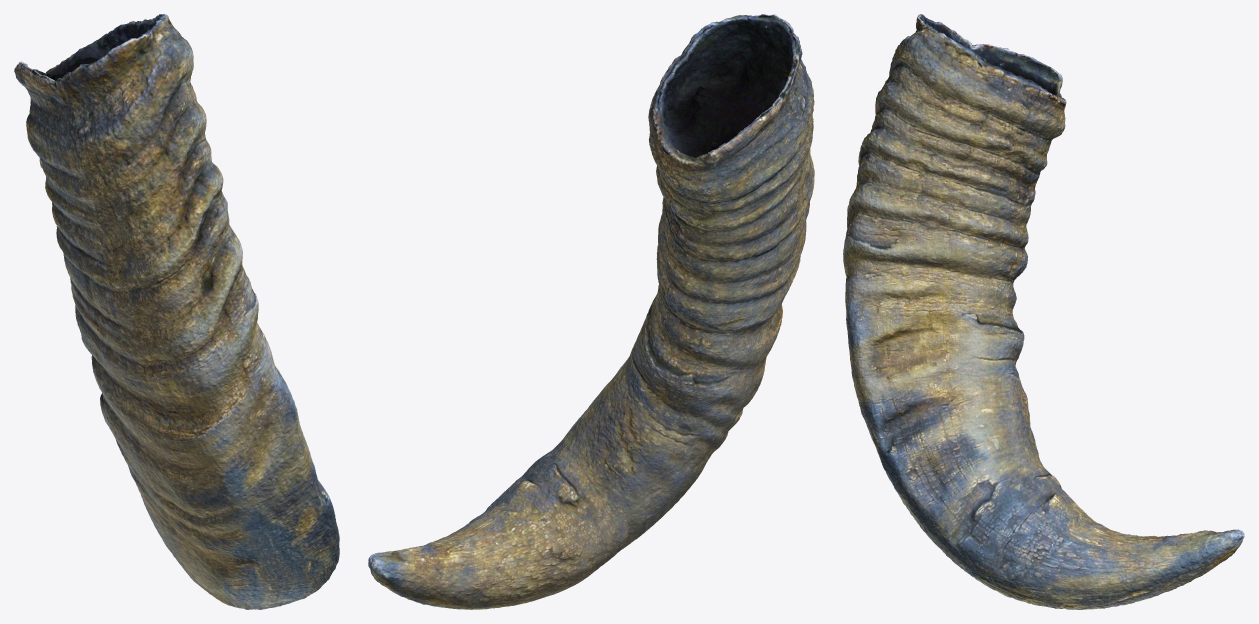
The model's file is MZUR3D-022.glb.
3 renders of one model, left to right at view 1: azimuth 30°, elevation 25°; view 2: azimuth 150°, elevation 25°; view 3: azimuth 270°, elevation 25°, orthographic. The views are drawn at different scales.
Visible parts, largest first — view 1: MZUR3D-022; view 2: MZUR3D-022; view 3: MZUR3D-022.
Part boxes in pixels (left/top/right/bottom): MZUR3D-022: left=14, top=14, right=339, bottom=609; MZUR3D-022: left=368, top=14, right=814, bottom=609; MZUR3D-022: left=843, top=14, right=1244, bottom=609.
Size of the model in its own units: 6.19 by 11.98 by 8.58.
Materials: 1 (1 with a texture image).
